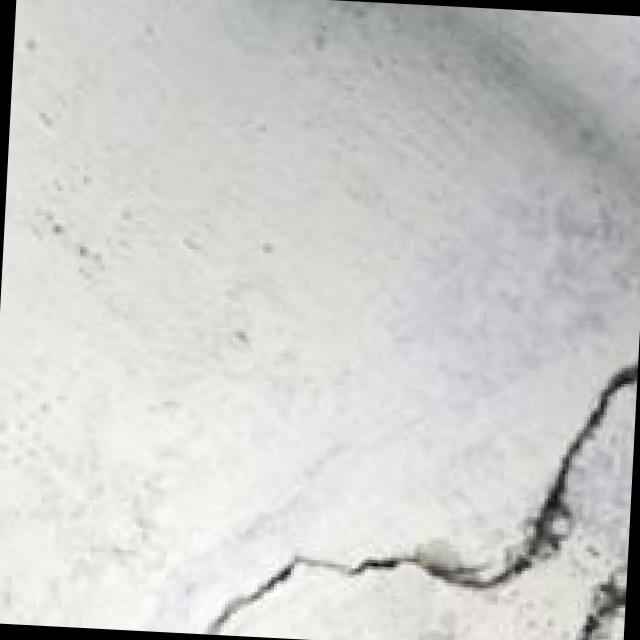crack: (172, 316, 636, 640)
